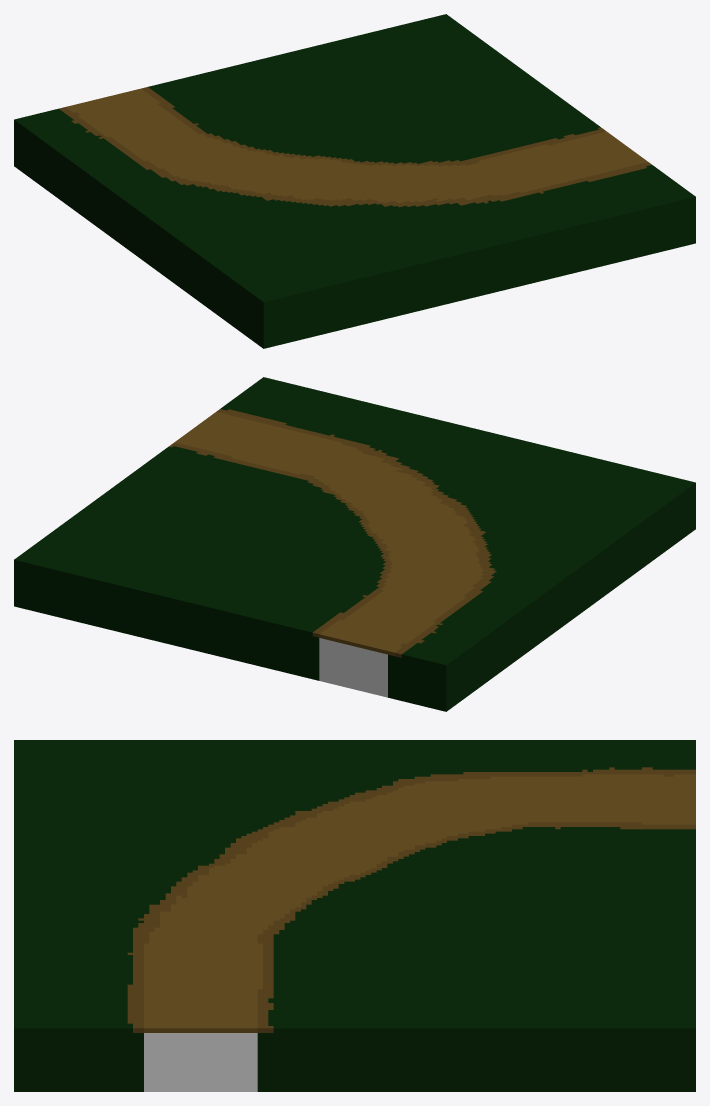
File: map-18.obj
3 renders of one model, top to bottom at view 1: azimuth 30°, elevation 25°; view 2: azimuth 150°, elevation 25°; view 3: azimuth 270°, elevation 25°, orthographic. The views are drawn at different scales.
Visible parts, largest first — view 1: map-18; view 2: map-18; view 3: map-18.
Boxes of the visible parts, left/top/right/bottom form: map-18: left=14, top=14, right=695, bottom=348; map-18: left=14, top=377, right=695, bottom=711; map-18: left=14, top=740, right=695, bottom=1091.
Size of the model in its own units: 126 by 13 by 126.
1 material, 1 textured.
